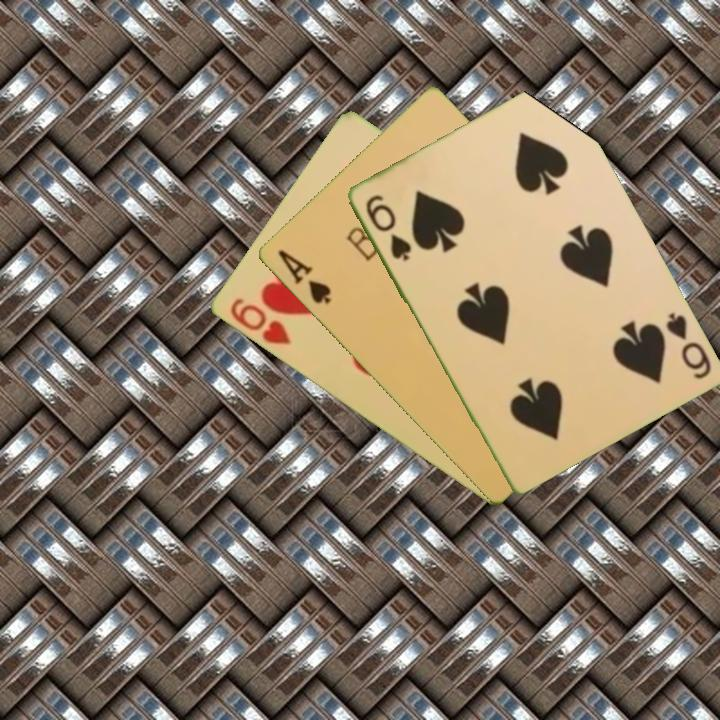6h: (226, 294, 293, 348)
6s: (661, 308, 714, 382), (361, 190, 414, 263)
As: (273, 246, 334, 308)
